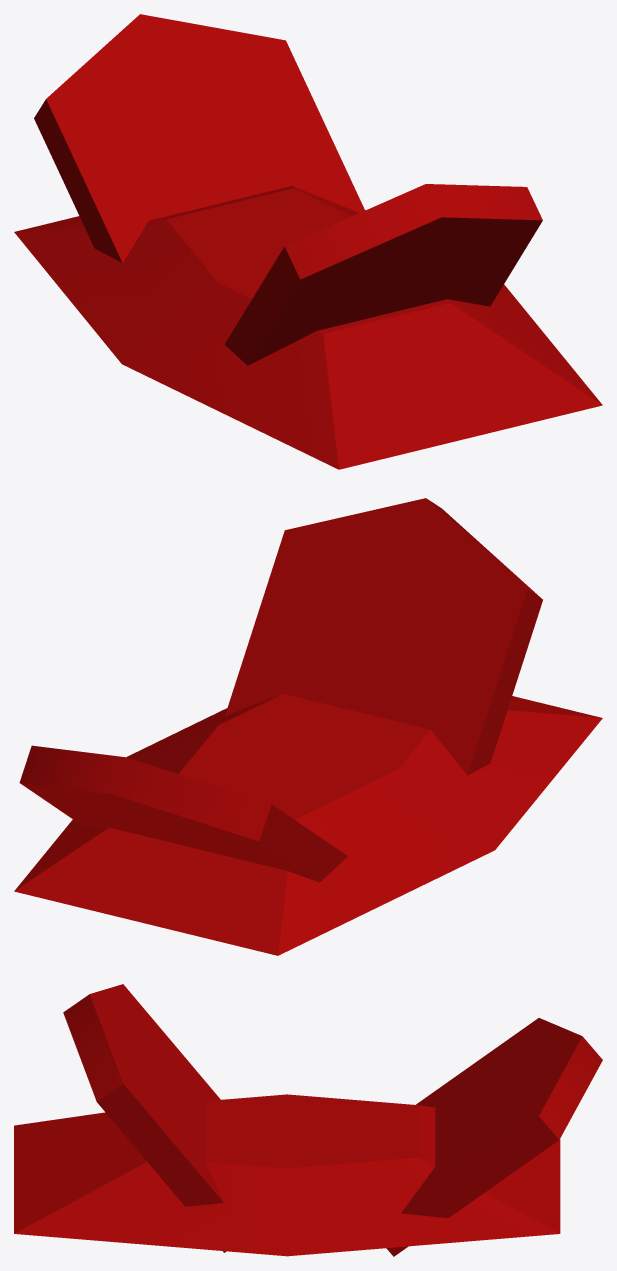
The model's file is SM_Prop_Barrel_Broken_02_Collision.glb.
3 renders of one model, top to bottom at view 1: azimuth 30°, elevation 25°; view 2: azimuth 150°, elevation 25°; view 3: azimuth 270°, elevation 25°, orthographic. The views are drawn at different scales.
Parts seen in each view (by area): view 1: SM_Prop_Barrel_Broken_02_Collision; view 2: SM_Prop_Barrel_Broken_02_Collision; view 3: SM_Prop_Barrel_Broken_02_Collision.
Part boxes in pixels (x1,y1,x2,y2): SM_Prop_Barrel_Broken_02_Collision: (14, 14, 602, 469); SM_Prop_Barrel_Broken_02_Collision: (14, 498, 602, 955); SM_Prop_Barrel_Broken_02_Collision: (14, 984, 602, 1256).
Size of the model in its own units: 1.24 by 0.7926 by 2.01.
